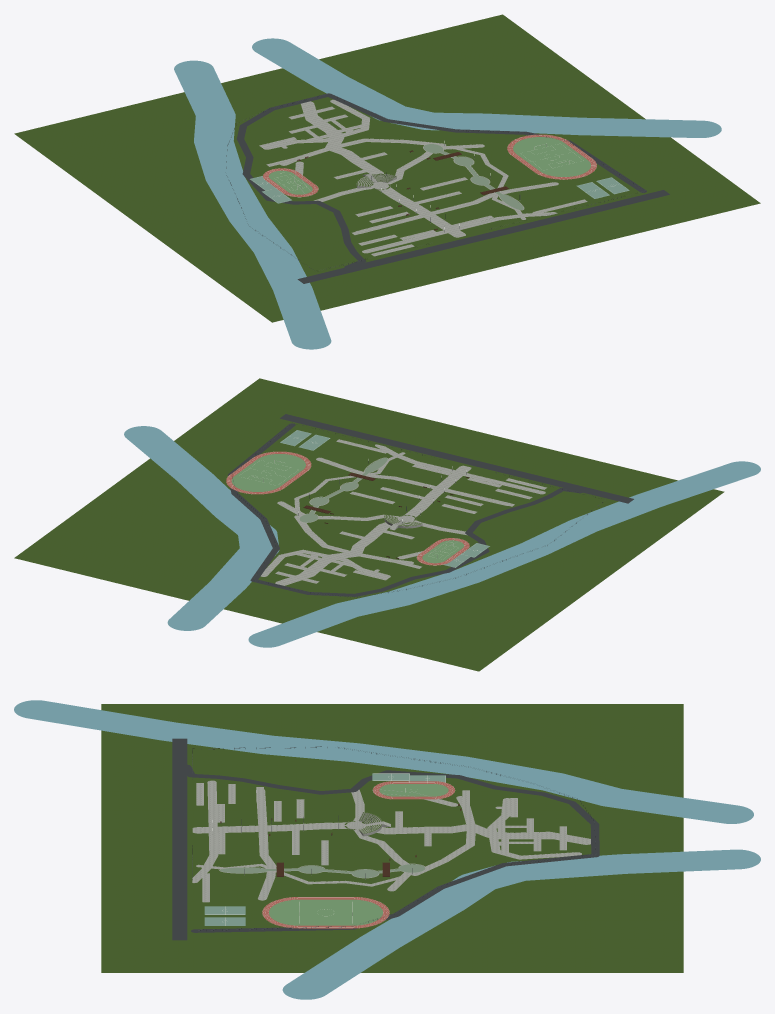
File: site_terrain.glb
3 renders of one model, top to bottom at view 1: azimuth 30°, elevation 25°; view 2: azimuth 150°, elevation 25°; view 3: azimuth 270°, elevation 25°, orthographic. The views are drawn at different scales.
Parts seen in each view (by area): view 1: V4_GROUND_GRASS, V4_RIVER, V4_GROUND_PATHS, V4_GROUND_ROADS, V4_GROUND_MAIN_FIELD, V4_GROUND_PATH_BORDER, V4_GROUND_MAIN_TRACK, V4_POND_WATER, V4_GROUND_WEST_FIELD; view 2: V4_GROUND_GRASS, V4_RIVER, V4_GROUND_PATHS, V4_GROUND_ROADS, V4_GROUND_MAIN_FIELD, V4_GROUND_PATH_BORDER, V4_GROUND_MAIN_TRACK, V4_POND_WATER, V4_GROUND_WEST_FIELD; view 3: V4_GROUND_GRASS, V4_RIVER, V4_GROUND_PATHS, V4_GROUND_ROADS, V4_GROUND_MAIN_FIELD, V4_GROUND_PATH_BORDER, V4_GROUND_MAIN_TRACK, V4_POND_WATER, V4_GROUND_WEST_FIELD, V4_GROUND_WEST_TRACK.
Part boxes in pixels (left/top/right/bottom): V4_GROUND_GRASS: left=14, top=14, right=760, bottom=322; V4_RIVER: left=174, top=38, right=721, bottom=349; V4_GROUND_PATHS: left=260, top=100, right=586, bottom=256; V4_GROUND_ROADS: left=236, top=93, right=669, bottom=283; V4_GROUND_MAIN_FIELD: left=513, top=137, right=590, bottom=176; V4_GROUND_PATH_BORDER: left=259, top=99, right=587, bottom=256; V4_GROUND_MAIN_TRACK: left=507, top=134, right=596, bottom=179; V4_POND_WATER: left=423, top=144, right=523, bottom=209; V4_GROUND_WEST_FIELD: left=268, top=170, right=312, bottom=194; V4_GROUND_GRASS: left=14, top=378, right=724, bottom=671; V4_RIVER: left=124, top=426, right=760, bottom=647; V4_GROUND_PATHS: left=261, top=439, right=546, bottom=585; V4_GROUND_ROADS: left=228, top=414, right=633, bottom=596; V4_GROUND_MAIN_FIELD: left=231, top=454, right=305, bottom=491; V4_GROUND_PATH_BORDER: left=261, top=439, right=546, bottom=585; V4_GROUND_MAIN_TRACK: left=226, top=451, right=311, bottom=494; V4_POND_WATER: left=299, top=458, right=387, bottom=522; V4_GROUND_WEST_FIELD: left=422, top=540, right=464, bottom=563; V4_GROUND_GRASS: left=101, top=704, right=683, bottom=972; V4_RIVER: left=14, top=700, right=760, bottom=999; V4_GROUND_PATHS: left=192, top=780, right=590, bottom=901; V4_GROUND_ROADS: left=172, top=738, right=599, bottom=940; V4_GROUND_MAIN_FIELD: left=269, top=899, right=382, bottom=925; V4_GROUND_PATH_BORDER: left=193, top=780, right=589, bottom=902; V4_GROUND_MAIN_TRACK: left=262, top=897, right=389, bottom=928; V4_POND_WATER: left=220, top=864, right=425, bottom=877; V4_GROUND_WEST_FIELD: left=379, top=784, right=448, bottom=796; V4_GROUND_WEST_TRACK: left=373, top=781, right=454, bottom=799.
Bounding box in the file's own units: 379 × 3.83 × 399.
16 materials, 8 textured.
